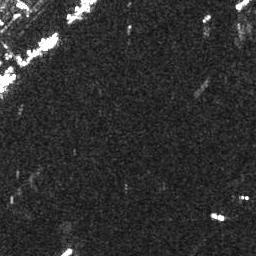ship: (42, 35, 58, 51), (210, 212, 225, 221), (235, 1, 250, 9), (202, 13, 211, 23)
